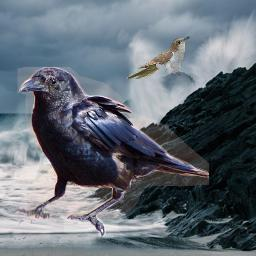Crow: (15, 67, 209, 237)
Cuckoo: (126, 36, 190, 79)
